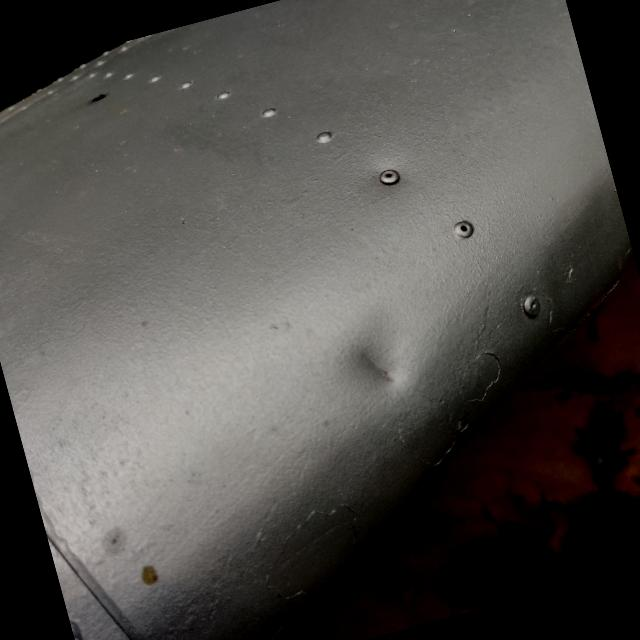dent: (328, 314, 418, 406)
